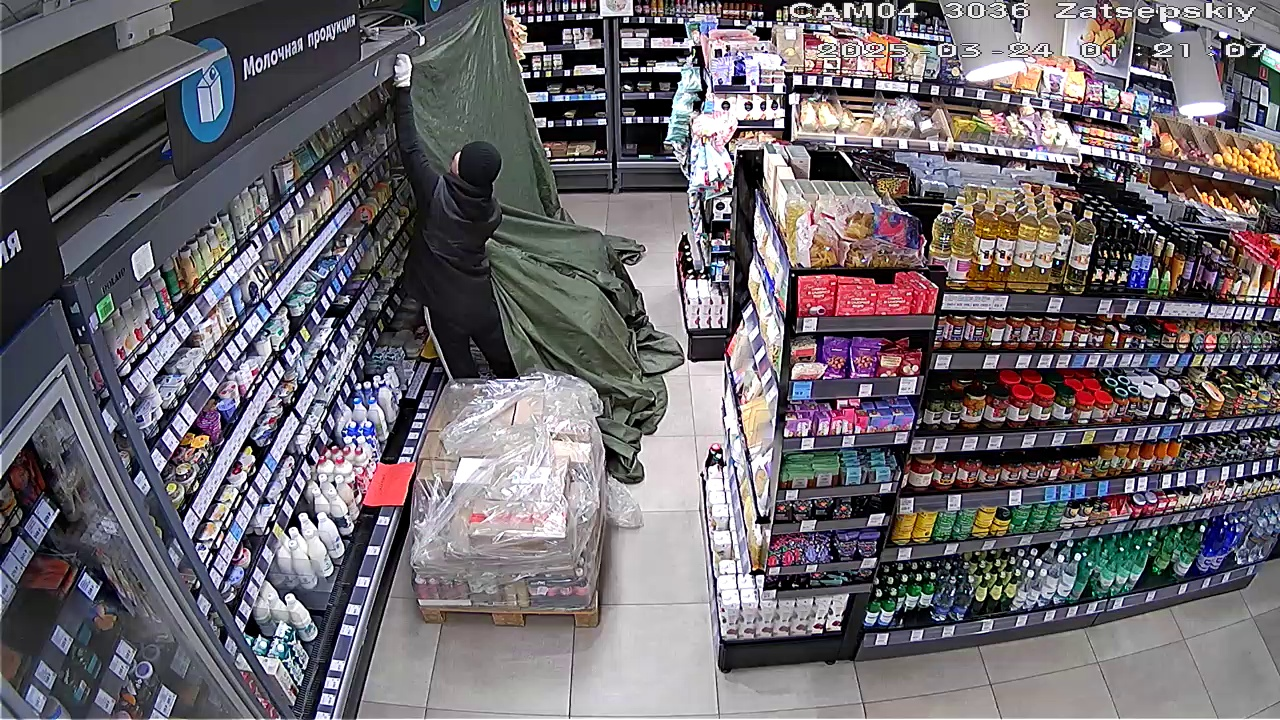Human: (373, 41, 502, 378)
dome: (513, 181, 644, 377), (414, 10, 542, 149)
pallet: (414, 377, 610, 626)
